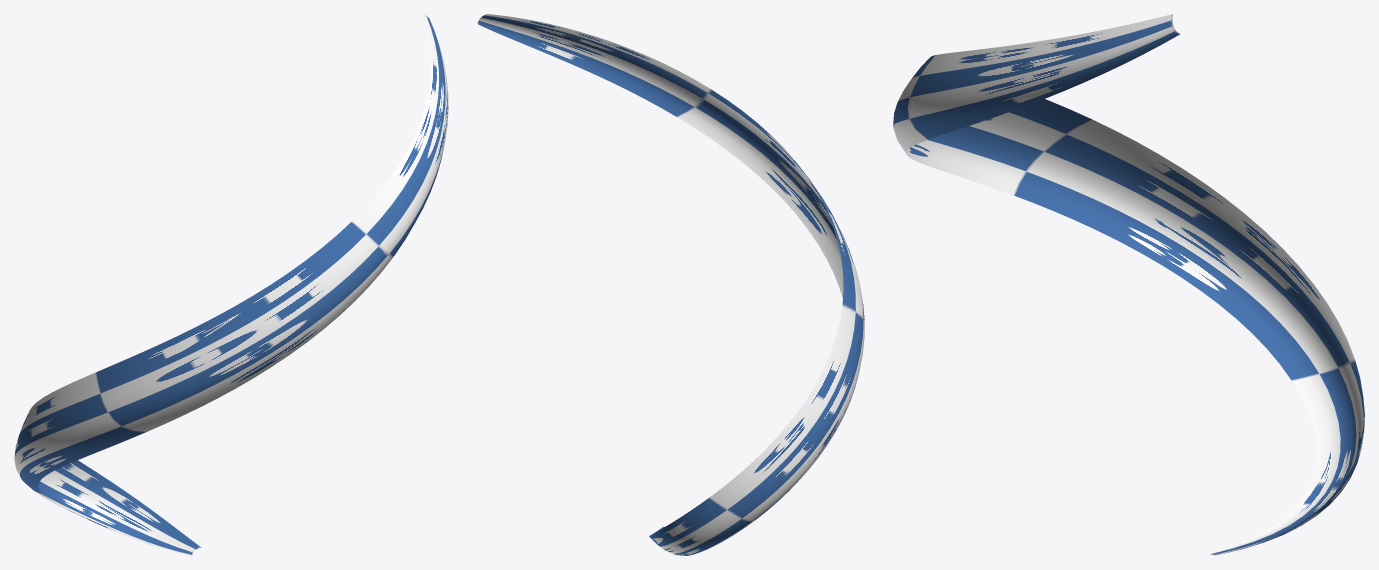
File: Rengoku_Spl_078_Wind1.fbx
The picture shows the model from 3 angles, left to right: view 1: azimuth 30°, elevation 25°; view 2: azimuth 150°, elevation 25°; view 3: azimuth 270°, elevation 25°; orthographic projection. The views are drawn at different scales.
Parts seen in each view (by area): view 1: SM_d_e_P0012_V00_C00_SplRgk_c078_Wind_01; view 2: SM_d_e_P0012_V00_C00_SplRgk_c078_Wind_01; view 3: SM_d_e_P0012_V00_C00_SplRgk_c078_Wind_01.
Part boxes in pixels (bbox=[...]): SM_d_e_P0012_V00_C00_SplRgk_c078_Wind_01: bbox=[14, 14, 448, 555]; SM_d_e_P0012_V00_C00_SplRgk_c078_Wind_01: bbox=[477, 14, 864, 555]; SM_d_e_P0012_V00_C00_SplRgk_c078_Wind_01: bbox=[893, 14, 1364, 555].
Bounding box in the file's own units: 145 × 176 × 109.
